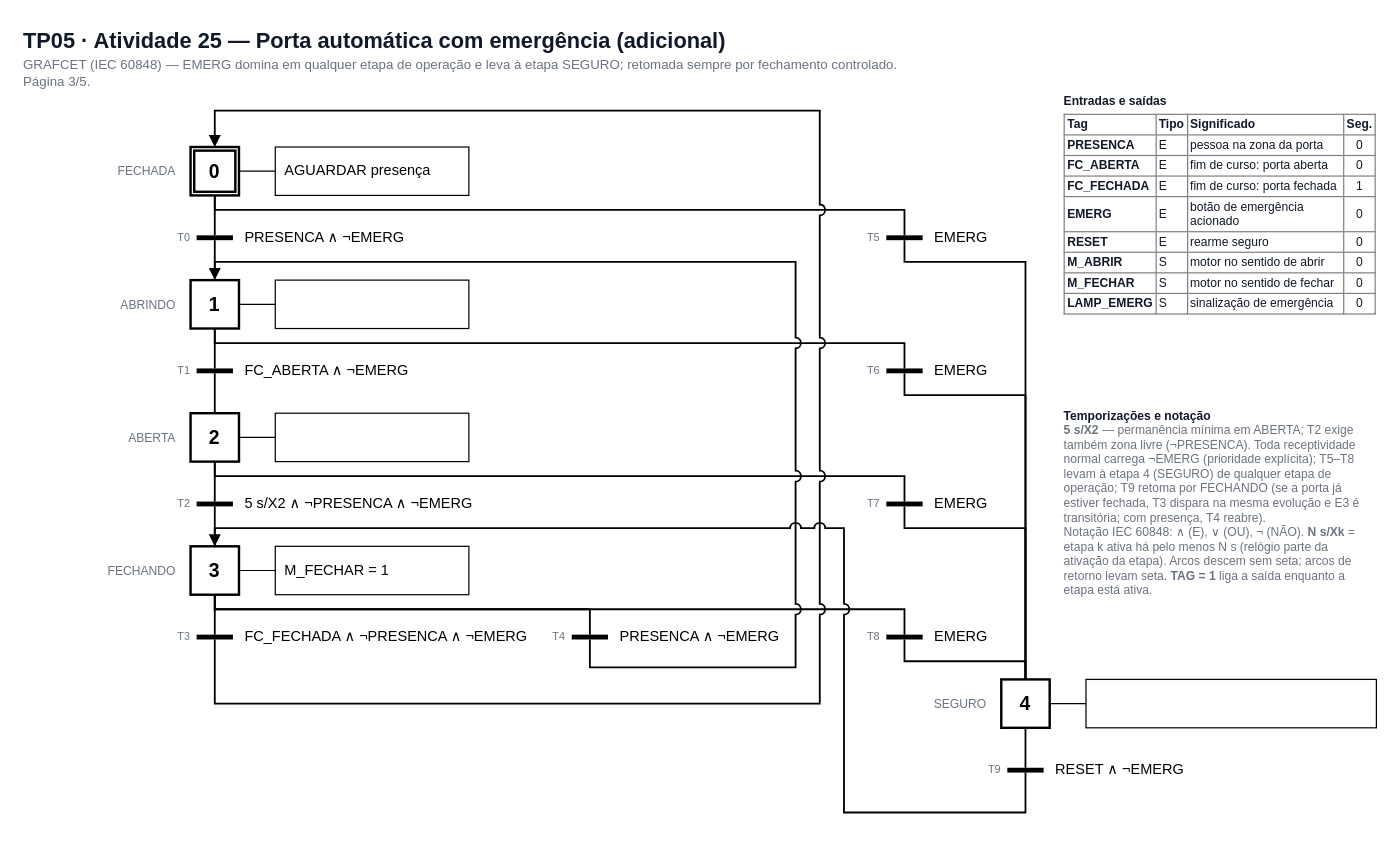
Some shapes in this 1398 by 843 pixel diagram are drawn without their labels. The centre of each missing label's shape, as x and y in pixels:
LAMP_EMERG = 1 · PARAR motores: point (1230, 703)
M_ABRIR = 1: point (371, 304)
MANTER aberta: point (371, 437)
